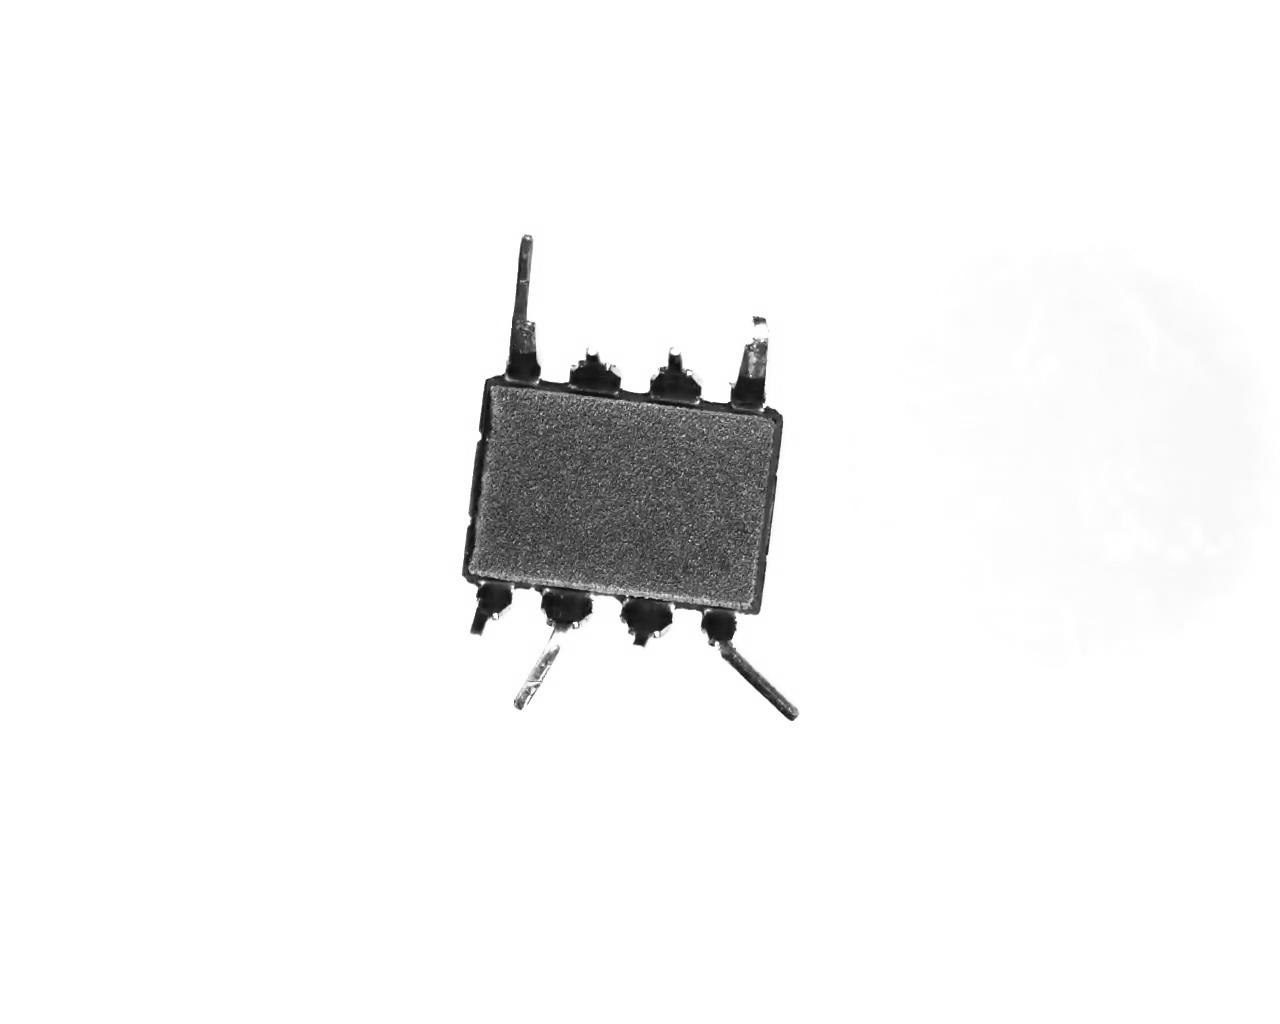Leg: (694, 615, 814, 726), (515, 573, 590, 719), (462, 234, 533, 385), (722, 296, 777, 424)
brokenLeg: (613, 588, 681, 654), (636, 344, 700, 412), (555, 340, 623, 400), (468, 577, 516, 637)
